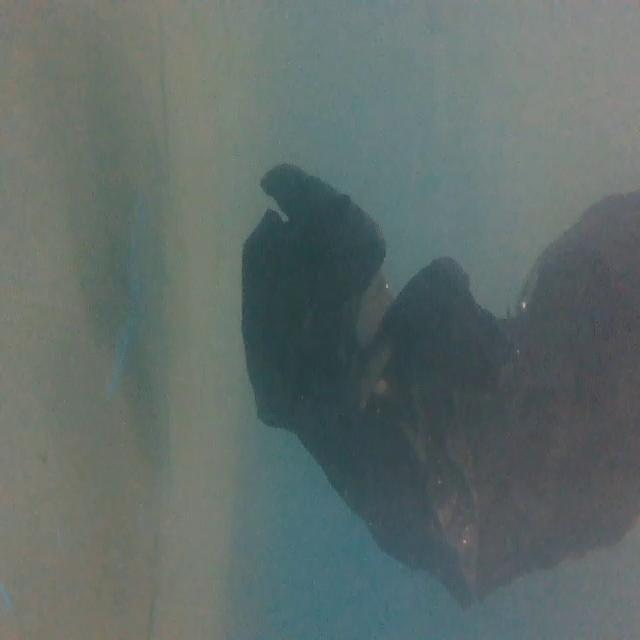plastic bags: (238, 165, 640, 604)
